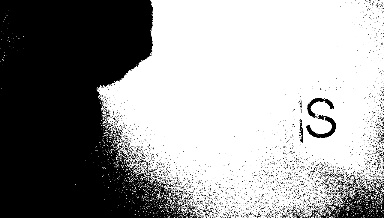S: (302, 92, 343, 141)
